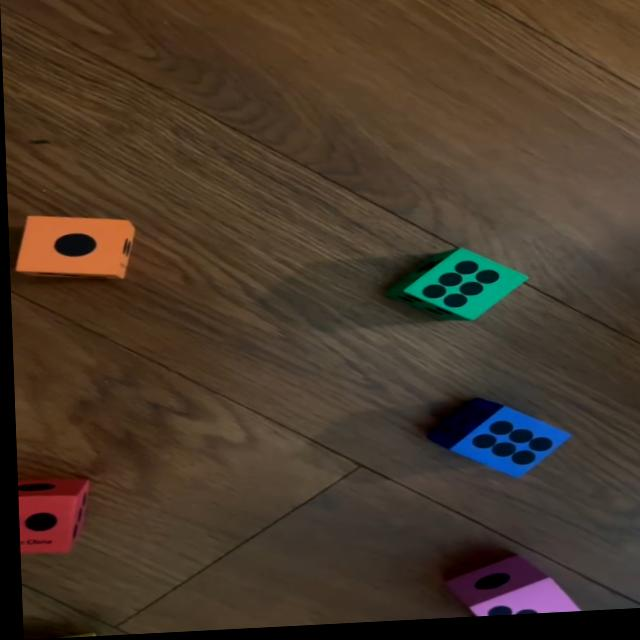blue_block: (424, 399, 567, 488)
red_block: (14, 476, 90, 555)
